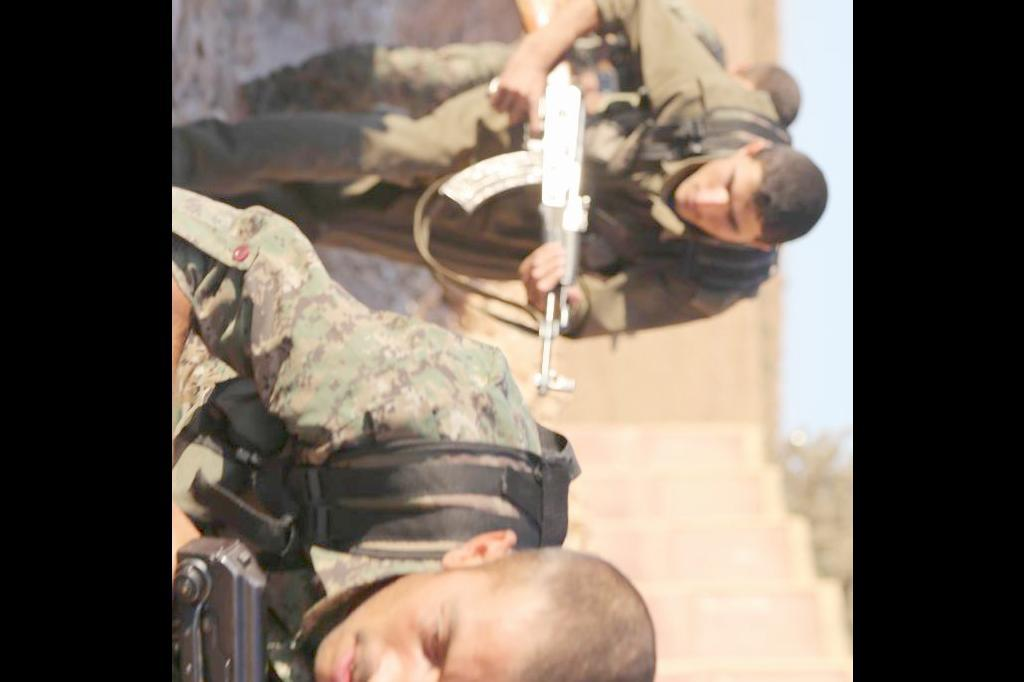gun: (434, 0, 604, 407)
